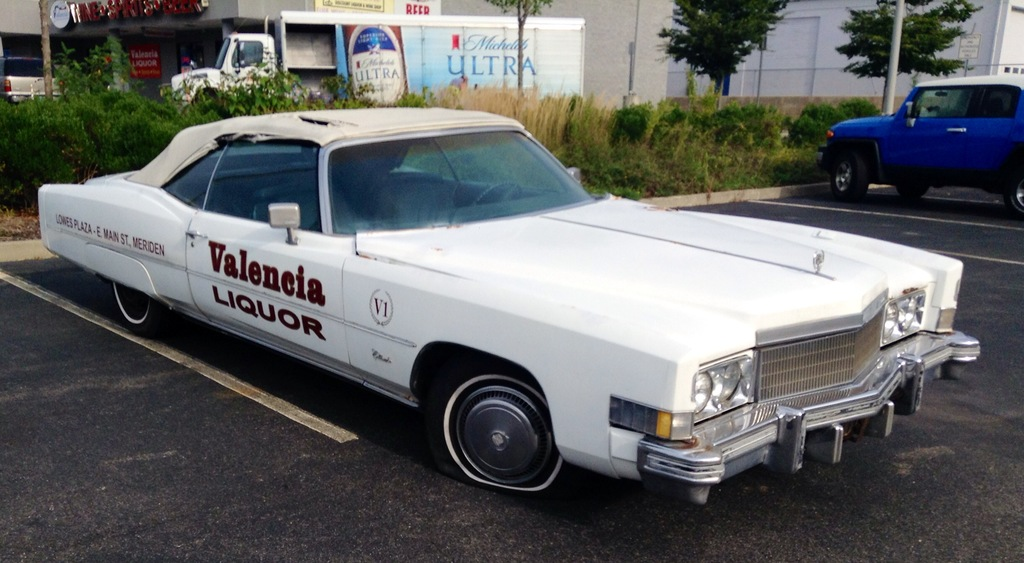Tree: (834, 0, 983, 112), (653, 0, 800, 109), (486, 0, 554, 95)
